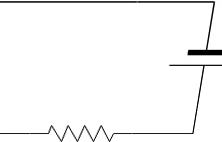resistor: (31, 118, 120, 141)
